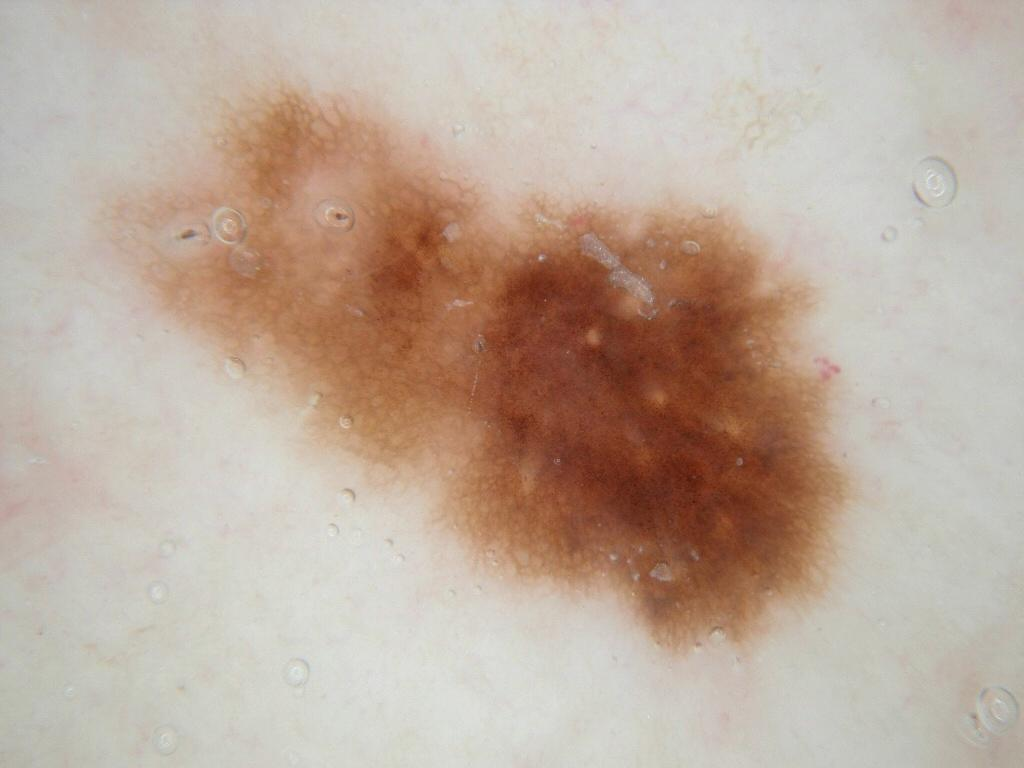Detected Lesion: (105, 86, 862, 668)
